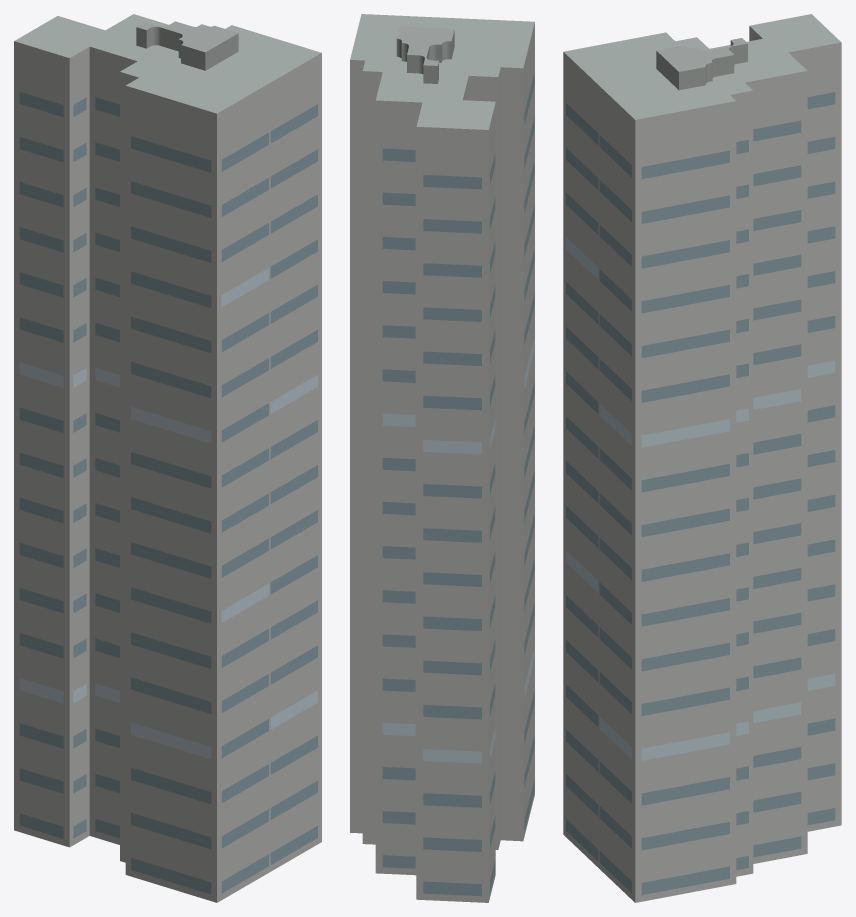
Rendered from fallback-raemian-la-classy-104.glb.
The picture shows the model from 3 angles, left to right: view 1: azimuth 30°, elevation 25°; view 2: azimuth 150°, elevation 25°; view 3: azimuth 270°, elevation 25°; orthographic projection. The views are drawn at different scales.
Visible parts, largest first — view 1: fallback-raemian-la-classy-104; view 2: fallback-raemian-la-classy-104; view 3: fallback-raemian-la-classy-104.
Boxes of the visible parts, x1=… form: fallback-raemian-la-classy-104: x1=14, y1=14, x2=321, y2=902; fallback-raemian-la-classy-104: x1=350, y1=14, x2=534, y2=902; fallback-raemian-la-classy-104: x1=563, y1=14, x2=841, y2=902.
Size of the model in its own units: 29.77 by 105 by 33.03.
